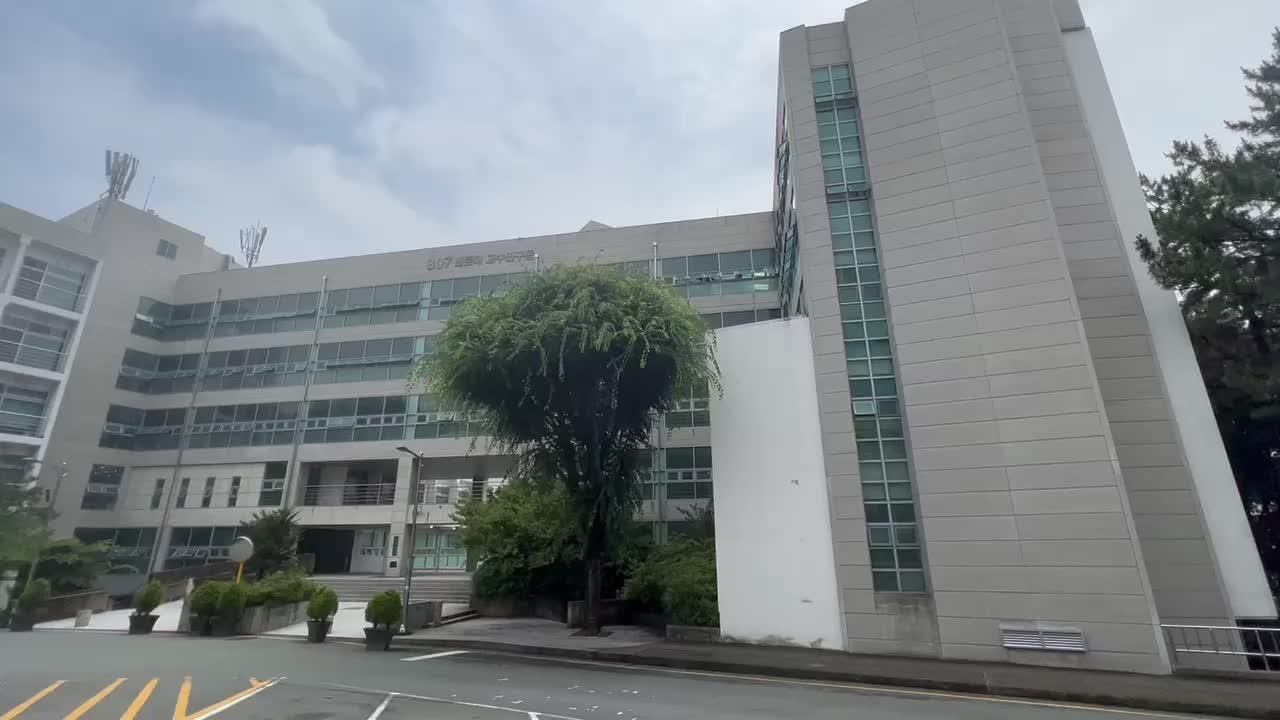building: (0, 184, 451, 552)
